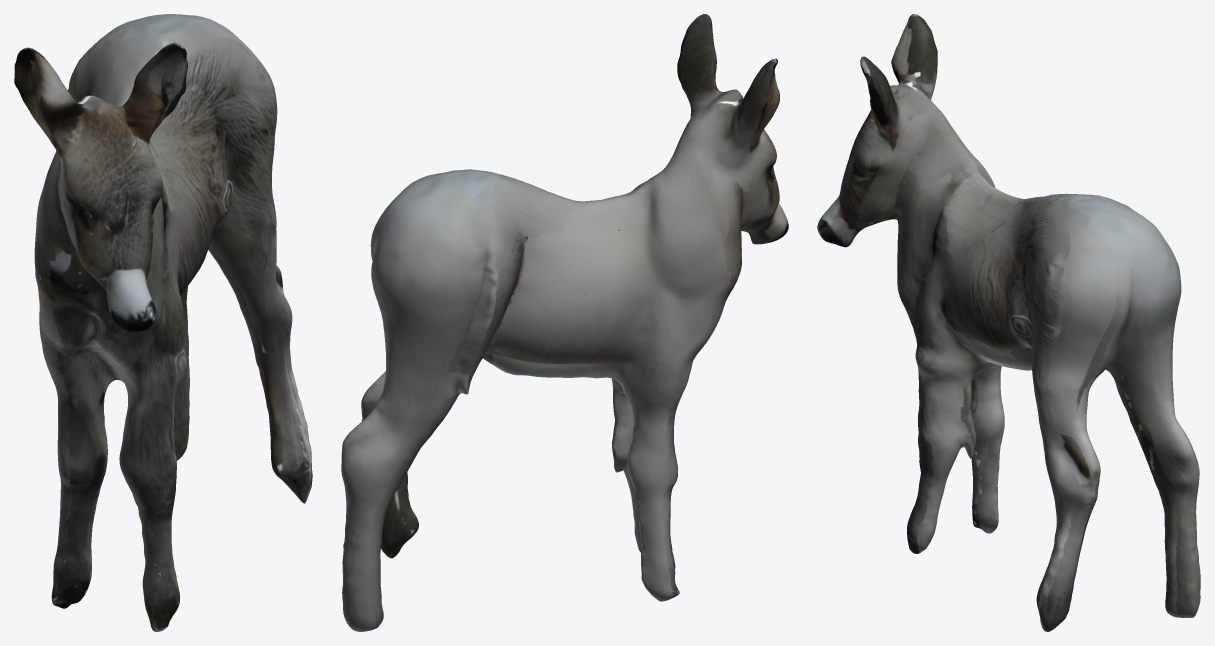
File: bebe.glb
3 renders of one model, left to right at view 1: azimuth 30°, elevation 25°; view 2: azimuth 150°, elevation 25°; view 3: azimuth 270°, elevation 25°, orthographic. The views are drawn at different scales.
Visible parts, largest first — view 1: mesh; view 2: mesh; view 3: mesh.
Part boxes in pixels (bbox=[...]): mesh: bbox=[14, 14, 312, 631]; mesh: bbox=[341, 14, 788, 631]; mesh: bbox=[817, 14, 1200, 631].
Bounding box in the file's own units: 0.9919 × 1.56 × 1.11.
1 material, 1 textured.
